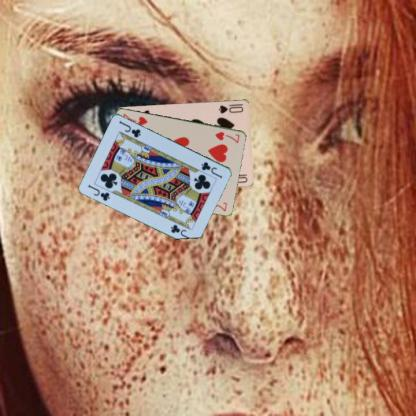10s: (216, 101, 244, 115)
7h: (213, 129, 241, 144)
Jc: (85, 182, 111, 202), (198, 159, 223, 179)
